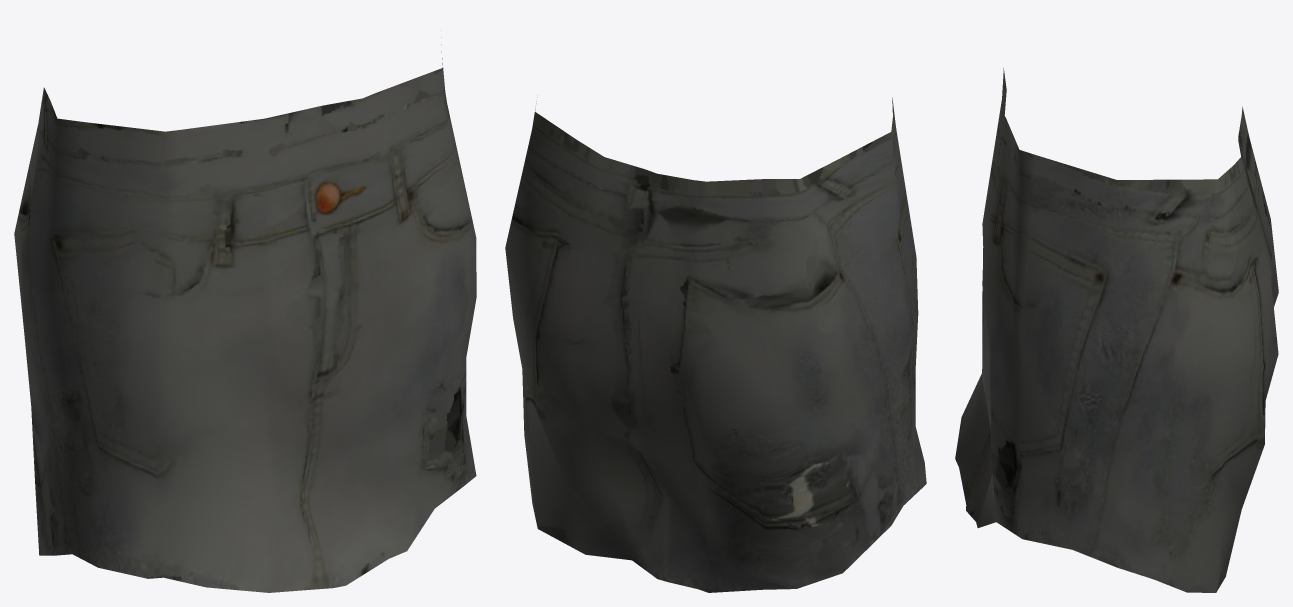
3 views of the same model, side by side, from view 1: azimuth 30°, elevation 25°; view 2: azimuth 150°, elevation 25°; view 3: azimuth 270°, elevation 25° (orthographic). The views are drawn at different scales.
Visible parts, largest first — view 1: geometry_0; view 2: geometry_0; view 3: geometry_0.
Boxes of the visible parts, left/top/right/bottom form: geometry_0: left=14, top=37, right=476, bottom=592; geometry_0: left=505, top=97, right=926, bottom=592; geometry_0: left=955, top=68, right=1278, bottom=592.
Size of the model in its own units: 0.3538 by 0.4279 by 0.2706.
Materials: 1 (1 with a texture image).
